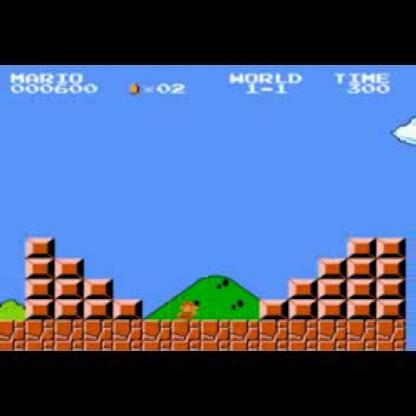Hoyo: (399, 316, 415, 352)
